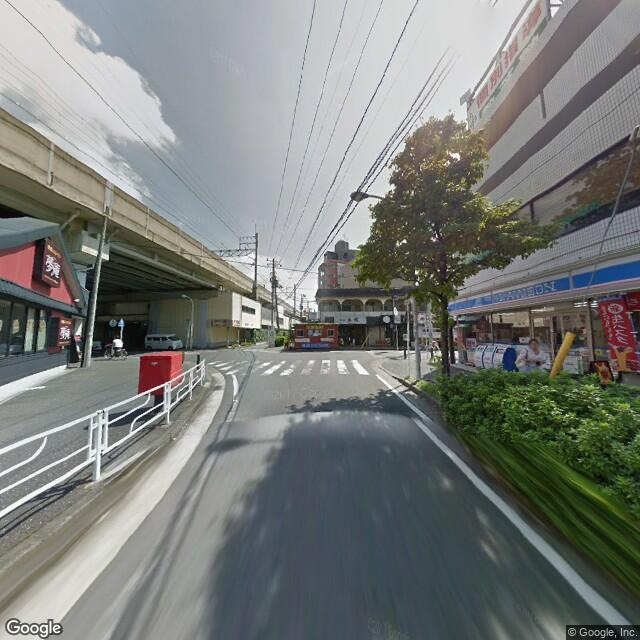lawson: (449, 248, 639, 319)
